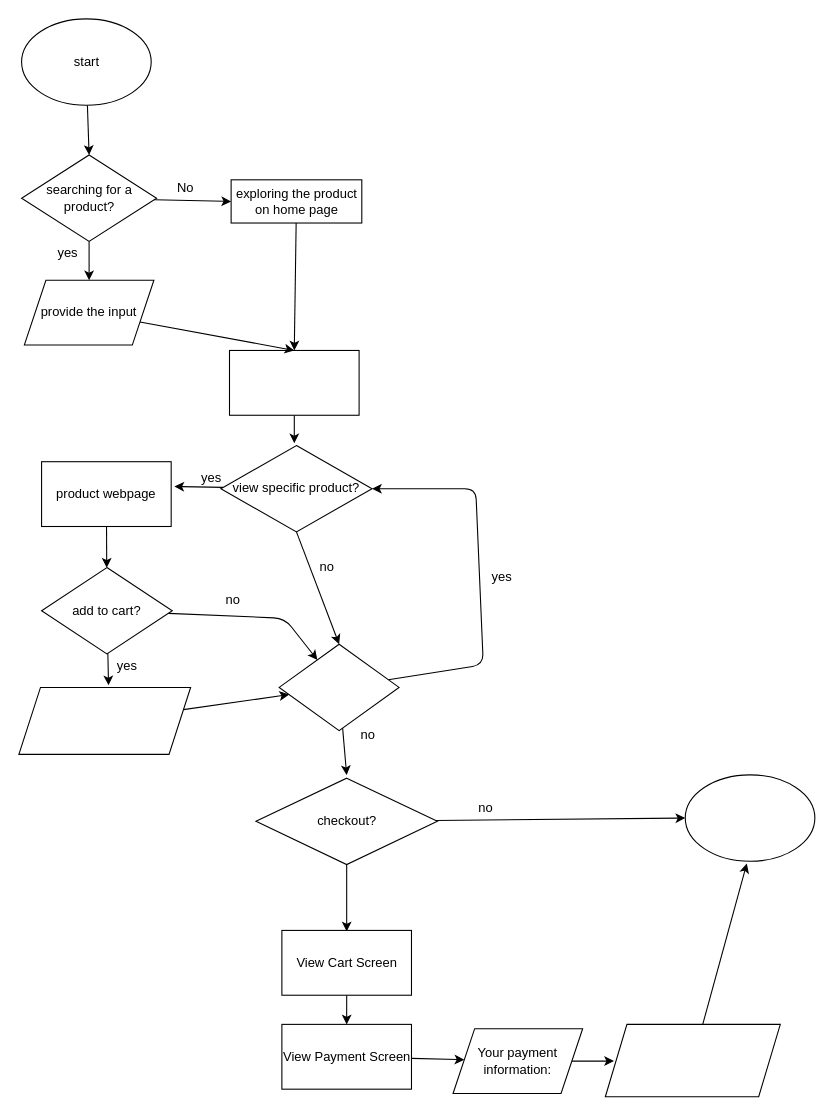
The diagram is 834 pixels wide and 1116 high, and some of its shapes have lost their labels. Each missing label, with the centre of its shape:
"Confirmation of adding to the cart!" goes at point 104,720.
"continue shoopping?" goes at point 338,687.
"End" goes at point 749,817.
"looking over the products" goes at point 293,382.
"Order Confirmation and Email" goes at point 692,1060.
